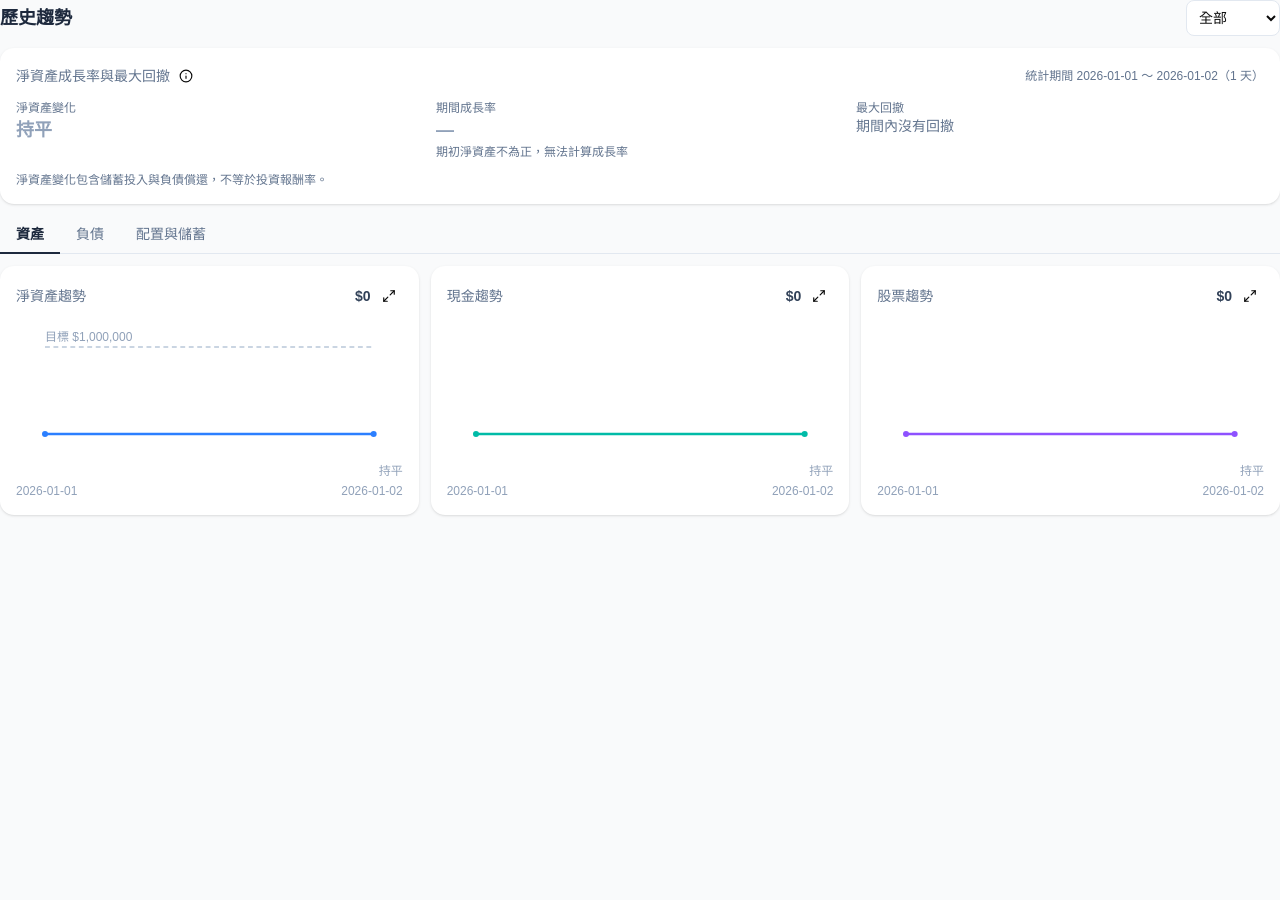
Test: TrendSection › 淨資產趨勢全螢幕檢視顯示目標淨資產參考線
What coordinates should you click on to do the following:
click the button named "淨資產趨勢全螢幕檢視"
I would click on:
 (389, 296)
Its box is top-left (375, 282), bottom-right (403, 310).
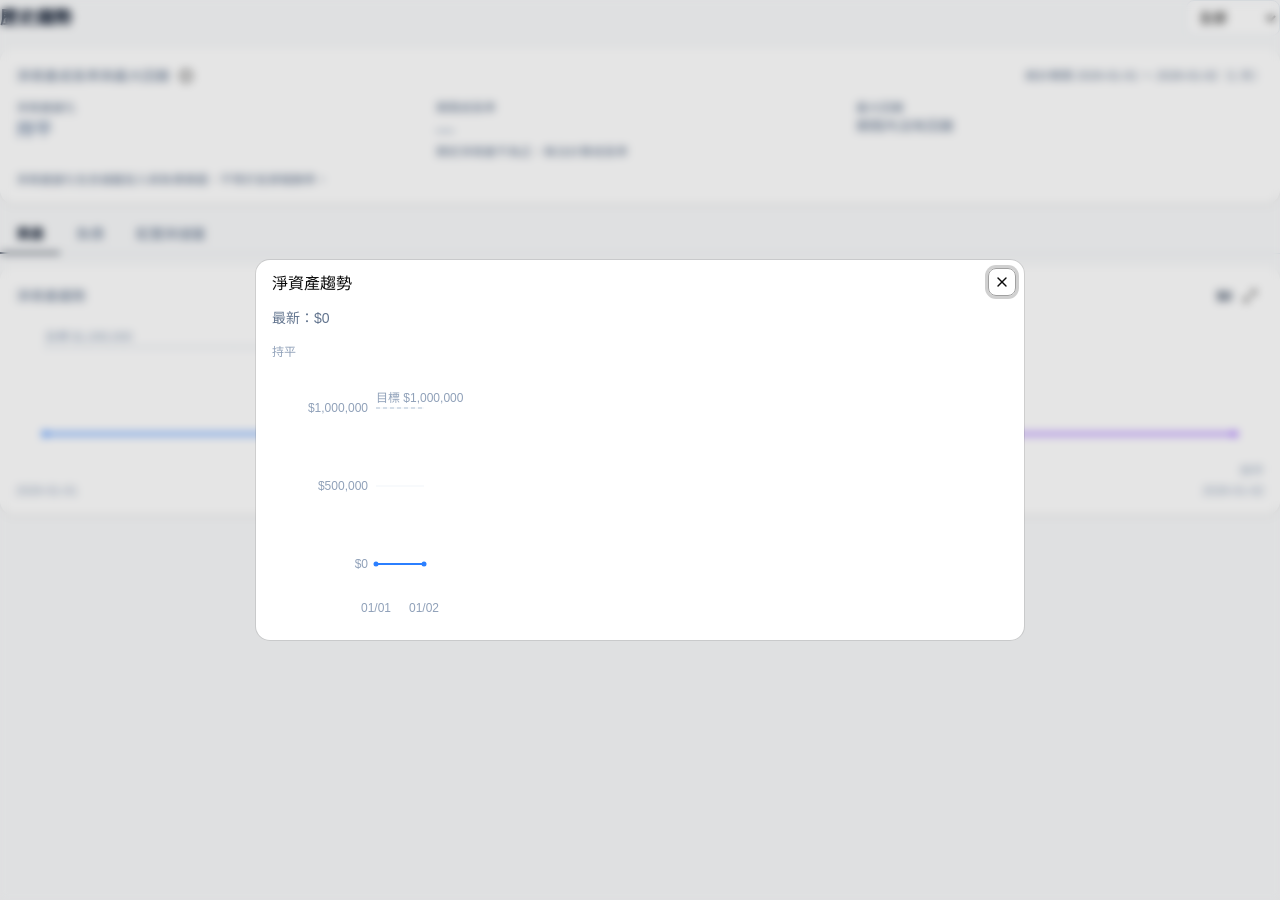
Now the text "目標 $1,000,000" is shown, box top-left (376, 392), bottom-right (463, 408)
